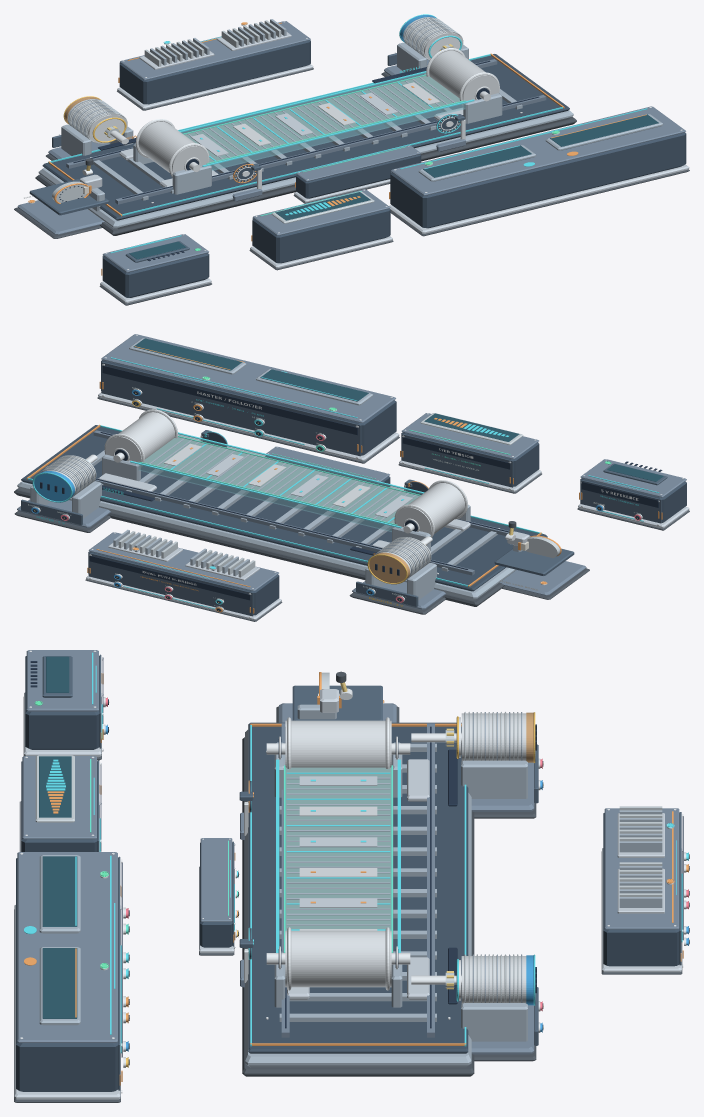
File: Level46_Fitted_Assembly.fbx
3 views of the same model, one above another, from view 1: azimuth 30°, elevation 25°; view 2: azimuth 150°, elevation 25°; view 3: azimuth 270°, elevation 25° (orthographic). The views are drawn at different scales.
Visible parts, largest first — view 1: L46_Frame_Static__graphite, L46_Controller_Static__graphite, L46_Controller_Static__mid_steel, L46_Web_Static__fabriclight, L46_Frame_Static__steel, L46_Driver_Static__graphite, L46_Monitor_Static__graphite, L46_Supply_Static__graphite, L46_Frame_Static__rubber, L46_Controller_Static__screen, L46_Web_Static__glass, L46_Frame_Static__mid_steel (+37 smaller); view 2: L46_Frame_Static__graphite, L46_Frame_Static__steel, L46_Controller_Static__deep_steel, L46_Controller_Static__mid_steel, L46_Web_Static__fabriclight, L46_Driver_Static__deep_steel, L46_Monitor_Static__deep_steel, L46_Controller_Static__screen, L46_Controller_Static__void, L46_Frame_Static__rubber, L46_Web_Static__glass, L46_Driver_Static__mid_steel (+53 smaller); view 3: L46_Frame_Static__graphite, L46_Controller_Static__mid_steel, L46_Web_Static__fabriclight, L46_Frame_Static__steel, L46_MasterRoller_Roll__silver, L46_Controller_Static__graphite, L46_Controller_Static__screen, L46_FollowerRoller_Roll__silver, L46_Driver_Static__mid_steel, L46_Frame_Static__rubber, L46_Monitor_Static__mid_steel, L46_Driver_Static__graphite (+39 smaller).
Boxes of the visible parts, x1=… form: L46_Frame_Static__graphite: x1=42, y1=54, x2=569, y2=220; L46_Controller_Static__graphite: x1=390, y1=132, x2=686, y2=228; L46_Controller_Static__mid_steel: x1=391, y1=106, x2=685, y2=195; L46_Web_Static__fabriclight: x1=184, y1=75, x2=460, y2=162; L46_Frame_Static__steel: x1=38, y1=89, x2=573, y2=229; L46_Driver_Static__graphite: x1=119, y1=40, x2=310, y2=104; L46_Monitor_Static__graphite: x1=252, y1=208, x2=390, y2=263; L46_Supply_Static__graphite: x1=102, y1=253, x2=209, y2=297; L46_Frame_Static__rubber: x1=35, y1=116, x2=576, y2=235; L46_Controller_Static__screen: x1=423, y1=114, x2=658, y2=177; L46_Web_Static__glass: x1=181, y1=73, x2=473, y2=170; L46_Frame_Static__mid_steel: x1=66, y1=59, x2=546, y2=204; L46_Frame_Static__graphite: x1=21, y1=425, x2=547, y2=591; L46_Frame_Static__steel: x1=17, y1=450, x2=516, y2=600; L46_Controller_Static__deep_steel: x1=101, y1=362, x2=361, y2=456; L46_Controller_Static__mid_steel: x1=101, y1=334, x2=395, y2=458; L46_Web_Static__fabriclight: x1=144, y1=437, x2=419, y2=523; L46_Driver_Static__deep_steel: x1=88, y1=552, x2=253, y2=616; L46_Monitor_Static__deep_steel: x1=401, y1=434, x2=513, y2=487; L46_Controller_Static__screen: x1=133, y1=338, x2=368, y2=401; L46_Controller_Static__void: x1=102, y1=365, x2=357, y2=450; L46_Frame_Static__rubber: x1=14, y1=488, x2=504, y2=606; L46_Web_Static__glass: x1=130, y1=434, x2=422, y2=531; L46_Driver_Static__mid_steel: x1=88, y1=532, x2=278, y2=591; L46_Frame_Static__graphite: x1=248, y1=722, x2=468, y2=1053; L46_Controller_Static__mid_steel: x1=17, y1=852, x2=117, y2=1042; L46_Web_Static__fabriclight: x1=286, y1=767, x2=390, y2=930; L46_Frame_Static__steel: x1=245, y1=730, x2=471, y2=1067; L46_MasterRoller_Roll__silver: x1=285, y1=930, x2=391, y2=987; L46_Controller_Static__graphite: x1=16, y1=858, x2=118, y2=1091; L46_Controller_Static__screen: x1=42, y1=856, x2=77, y2=1018; L46_FollowerRoller_Roll__silver: x1=285, y1=720, x2=391, y2=767; L46_Driver_Static__mid_steel: x1=604, y1=808, x2=679, y2=929; L46_Frame_Static__rubber: x1=242, y1=737, x2=474, y2=1076; L46_Monitor_Static__mid_steel: x1=22, y1=756, x2=101, y2=841; L46_Driver_Static__graphite: x1=603, y1=813, x2=679, y2=966.
Size of the model in its own units: 174 by 17.6 by 123.
